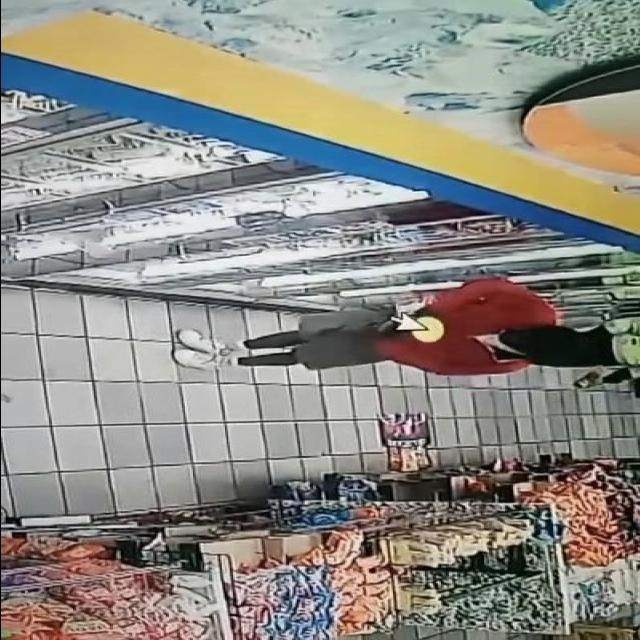Shoplifting: (126, 271, 612, 404)
